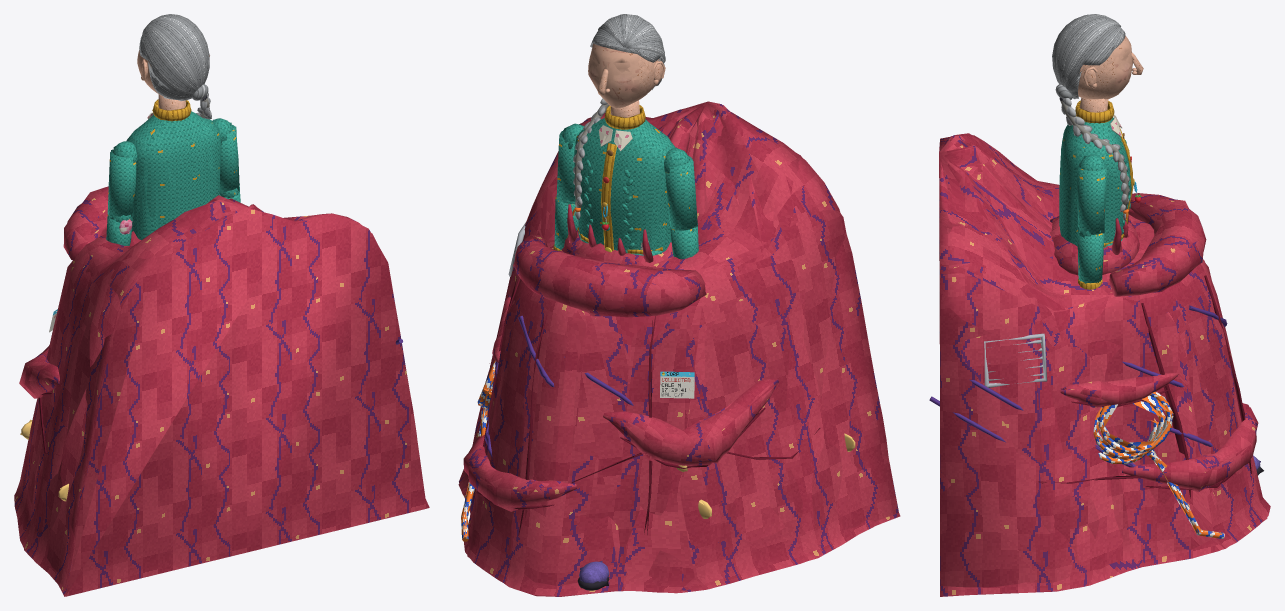
The model's file is c_mina_wall.glb.
3 renders of one model, left to right at view 1: azimuth 30°, elevation 25°; view 2: azimuth 150°, elevation 25°; view 3: azimuth 270°, elevation 25°, orthographic. The views are drawn at different scales.
Parts seen in each view (by area): view 1: part_body, part_body__lod, part_spine, part_head, part_spine__lod, part_head__lod, part_armL, part_arm, part_foreL; view 2: part_body, part_body__lod, part_spine, part_head, part_spine__lod, part_head__lod, part_armL, part_arm, part_foreL, part_foreR, part_armL__lod; view 3: part_body, part_body__lod, part_spine, part_head, part_head__lod, part_spine__lod, part_arm, part_foreR, part_arm__lod.
Boxes of the visible parts, bbox=[...] form: part_body: bbox=[14, 189, 429, 596]; part_body__lod: bbox=[16, 186, 425, 594]; part_spine: bbox=[126, 92, 221, 239]; part_head: bbox=[137, 14, 209, 101]; part_spine__lod: bbox=[128, 95, 221, 238]; part_head__lod: bbox=[137, 14, 209, 100]; part_armL: bbox=[107, 141, 137, 216]; part_arm: bbox=[213, 118, 239, 192]; part_foreL: bbox=[106, 213, 133, 245]; part_body: bbox=[459, 104, 900, 596]; part_body__lod: bbox=[458, 101, 898, 596]; part_spine: bbox=[572, 99, 675, 255]; part_head: bbox=[588, 14, 665, 108]; part_spine__lod: bbox=[572, 98, 674, 255]; part_head__lod: bbox=[588, 14, 665, 108]; part_armL: bbox=[664, 148, 695, 230]; part_arm: bbox=[557, 124, 583, 203]; part_foreL: bbox=[670, 226, 698, 258]; part_foreR: bbox=[553, 200, 578, 250]; part_armL__lod: bbox=[665, 147, 697, 230]; part_body: bbox=[929, 134, 1270, 596]; part_body__lod: bbox=[930, 133, 1267, 594]; part_spine: bbox=[1059, 97, 1141, 247]; part_head: bbox=[1052, 14, 1143, 99]; part_head__lod: bbox=[1052, 14, 1142, 99]; part_spine__lod: bbox=[1060, 97, 1141, 245]; part_arm: bbox=[1077, 154, 1106, 234]; part_foreR: bbox=[1078, 227, 1104, 289]; part_arm__lod: bbox=[1076, 154, 1107, 233].
Size of the model in its own units: 1.43 by 1.81 by 1.14.
Materials: 38 (17 with a texture image).
